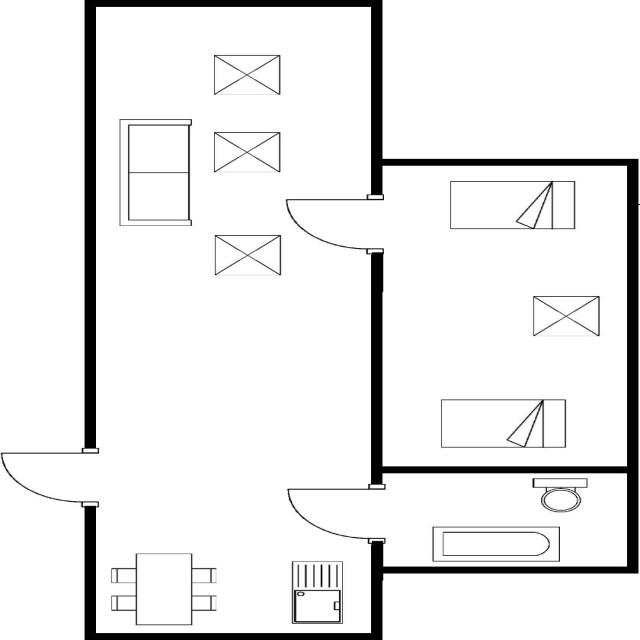bed: (435, 394, 575, 451), (444, 177, 579, 233)
coffee_table: (207, 230, 288, 281), (526, 291, 608, 340), (207, 52, 286, 98), (210, 129, 288, 175)
dining_table: (107, 550, 222, 628)
large_sink: (526, 475, 593, 515)
large_sofa: (111, 114, 198, 230)
sink: (283, 557, 351, 627)
tub: (424, 522, 564, 562)
